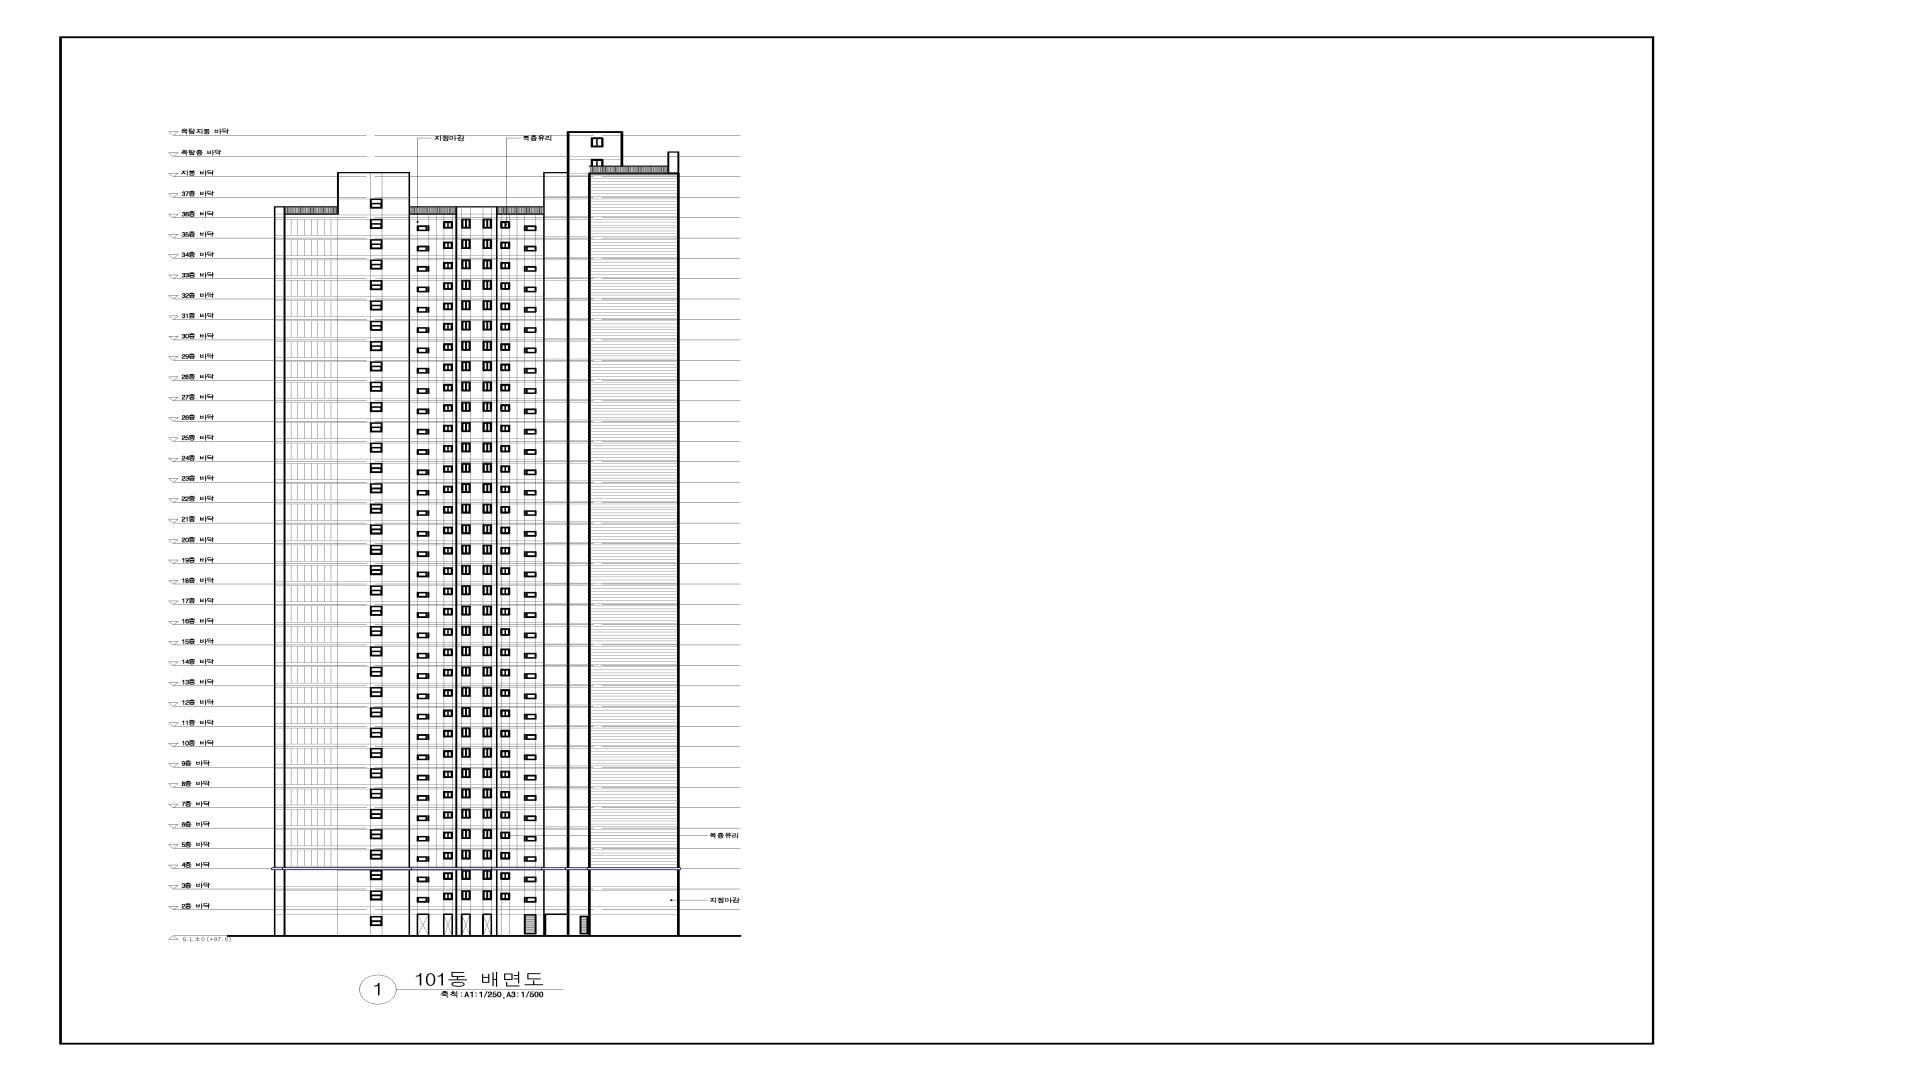door: (417, 913, 430, 935), (443, 913, 453, 935), (461, 913, 471, 935), (482, 914, 492, 935)
wall: (274, 131, 680, 937)
window: (524, 914, 537, 935), (579, 916, 591, 935), (370, 198, 383, 209), (370, 259, 383, 270), (370, 300, 383, 311), (370, 361, 383, 372), (370, 422, 383, 433), (370, 483, 383, 494), (370, 524, 383, 535), (370, 585, 383, 596), (370, 646, 383, 657), (370, 707, 383, 718), (370, 768, 383, 779), (370, 829, 383, 840), (591, 137, 604, 147), (370, 219, 383, 229), (370, 239, 383, 249), (370, 280, 383, 290), (370, 321, 383, 331), (370, 341, 383, 351), (370, 382, 383, 392), (370, 402, 383, 412), (370, 443, 383, 453), (370, 463, 383, 473), (370, 504, 383, 514), (370, 545, 383, 555), (370, 565, 383, 575), (370, 606, 383, 616), (370, 626, 383, 636), (370, 667, 383, 677), (370, 687, 383, 697), (370, 728, 383, 738), (370, 748, 383, 758), (370, 789, 383, 799), (370, 809, 383, 819), (370, 850, 383, 860), (370, 870, 383, 880), (370, 891, 383, 901), (370, 916, 383, 926), (482, 381, 492, 392), (461, 218, 471, 229), (461, 320, 471, 331), (461, 381, 471, 392), (461, 442, 471, 453), (461, 544, 471, 555), (461, 605, 471, 616), (461, 666, 471, 677), (461, 727, 471, 738), (591, 159, 604, 167), (482, 422, 492, 432), (482, 565, 492, 575), (482, 585, 492, 595), (482, 626, 492, 636), (482, 687, 492, 697), (482, 809, 492, 819), (482, 850, 492, 860), (482, 890, 492, 900), (461, 239, 471, 249), (461, 259, 471, 269), (461, 280, 471, 290), (461, 300, 471, 310), (461, 341, 471, 351), (461, 361, 471, 371), (461, 402, 471, 412), (461, 422, 471, 432), (461, 463, 471, 473), (461, 483, 471, 493), (461, 504, 471, 514), (461, 524, 471, 534), (461, 565, 471, 575), (461, 585, 471, 595), (461, 626, 471, 636), (461, 646, 471, 656), (461, 687, 471, 697), (461, 707, 471, 717), (461, 748, 471, 758), (461, 768, 471, 778), (461, 788, 471, 798), (461, 809, 471, 819), (461, 829, 471, 839), (461, 850, 471, 860), (461, 870, 471, 880), (461, 890, 471, 900), (483, 320, 492, 331), (483, 442, 492, 453), (483, 544, 492, 555), (483, 605, 492, 616), (483, 666, 492, 677), (483, 727, 492, 738), (483, 788, 492, 799), (483, 219, 492, 229), (483, 239, 492, 249), (483, 259, 492, 269), (483, 280, 492, 290), (483, 300, 492, 310), (483, 341, 492, 351), (483, 361, 492, 371), (483, 402, 492, 412), (483, 463, 492, 473), (483, 483, 492, 493), (483, 504, 492, 514), (483, 524, 492, 534), (483, 646, 492, 656), (483, 707, 492, 717), (483, 748, 492, 758), (483, 768, 492, 778), (483, 829, 492, 839), (483, 870, 492, 880), (500, 282, 511, 290), (500, 343, 511, 351), (500, 567, 511, 575), (500, 811, 511, 819), (500, 221, 510, 229), (500, 384, 510, 392), (500, 404, 510, 412), (500, 445, 510, 453), (500, 465, 510, 473), (500, 506, 510, 514), (500, 547, 510, 555), (500, 608, 510, 616), (500, 628, 510, 636), (500, 669, 510, 677), (500, 689, 510, 697), (500, 730, 510, 738), (500, 750, 510, 758), (500, 791, 510, 799), (500, 852, 510, 860), (500, 872, 510, 880), (443, 221, 453, 229), (443, 282, 453, 290), (443, 323, 453, 331), (443, 343, 453, 351), (443, 404, 453, 412), (443, 445, 453, 453), (443, 465, 453, 473), (443, 506, 453, 514), (443, 547, 453, 555), (443, 567, 453, 575), (443, 608, 453, 616), (443, 628, 453, 636), (443, 669, 453, 677), (443, 689, 453, 697), (443, 709, 453, 717), (443, 730, 453, 738), (443, 750, 453, 758), (443, 791, 453, 799), (443, 811, 453, 819), (443, 852, 453, 860), (443, 872, 453, 880), (443, 893, 453, 901), (524, 225, 537, 231), (524, 266, 537, 272), (524, 307, 537, 313), (524, 327, 537, 333), (524, 368, 537, 374), (524, 388, 537, 394), (524, 429, 537, 435), (524, 449, 537, 455), (524, 469, 537, 475), (524, 490, 537, 496), (524, 510, 537, 516), (524, 531, 537, 537), (524, 551, 537, 557), (524, 592, 537, 598), (524, 612, 537, 618), (524, 653, 537, 659), (524, 673, 537, 679), (524, 693, 537, 699), (524, 714, 537, 720), (524, 734, 537, 740), (524, 754, 537, 760), (524, 775, 537, 781), (524, 795, 537, 801), (524, 815, 537, 821), (524, 836, 537, 842), (524, 856, 537, 862), (524, 897, 537, 903), (417, 225, 430, 231), (417, 246, 430, 252), (417, 266, 430, 272), (417, 307, 430, 313), (417, 327, 430, 333), (417, 368, 430, 374), (417, 388, 430, 394), (417, 429, 430, 435), (417, 449, 430, 455), (417, 469, 430, 475), (417, 490, 430, 496), (417, 510, 430, 516), (417, 531, 430, 537), (417, 551, 430, 557), (417, 572, 430, 578), (417, 592, 430, 598), (417, 612, 430, 618), (417, 653, 430, 659), (417, 673, 430, 679), (417, 714, 430, 720), (417, 734, 430, 740), (417, 754, 430, 760), (417, 775, 430, 781), (417, 795, 430, 801), (417, 815, 430, 821), (417, 836, 430, 842), (417, 856, 430, 862), (417, 897, 430, 903), (500, 242, 510, 249), (500, 262, 510, 269), (500, 303, 510, 310), (500, 323, 510, 330), (500, 364, 510, 371), (500, 425, 510, 432), (500, 486, 510, 493), (500, 527, 510, 534), (500, 588, 510, 595), (500, 649, 510, 656), (500, 710, 510, 717), (500, 771, 510, 778), (500, 832, 510, 839), (500, 893, 510, 900), (443, 242, 453, 249), (443, 262, 453, 269), (443, 303, 453, 310), (443, 364, 453, 371), (443, 384, 453, 391), (443, 425, 453, 432), (443, 486, 453, 493), (443, 527, 453, 534), (443, 588, 453, 595), (443, 649, 453, 656), (443, 771, 453, 778), (443, 832, 453, 839), (524, 246, 537, 251), (524, 287, 537, 292), (524, 348, 537, 353), (524, 409, 537, 414), (524, 572, 537, 577), (524, 633, 537, 638), (524, 877, 537, 882), (417, 287, 430, 292), (417, 409, 430, 414), (417, 633, 430, 638), (417, 694, 430, 699), (417, 877, 430, 882), (417, 348, 429, 353)
